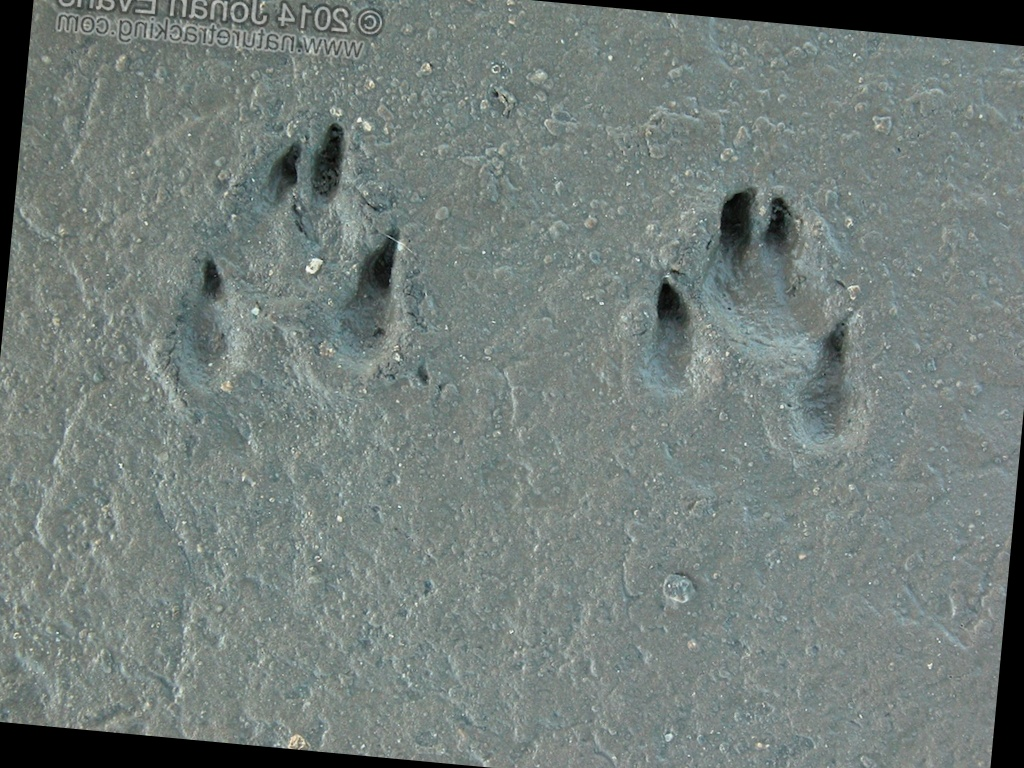rabbit: (136, 95, 478, 457), (594, 145, 913, 494)
